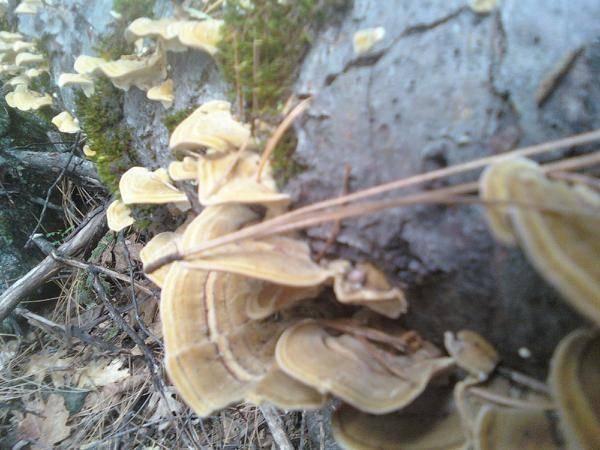Non-edible Mushroom: (105, 97, 457, 423), (328, 144, 600, 450)
